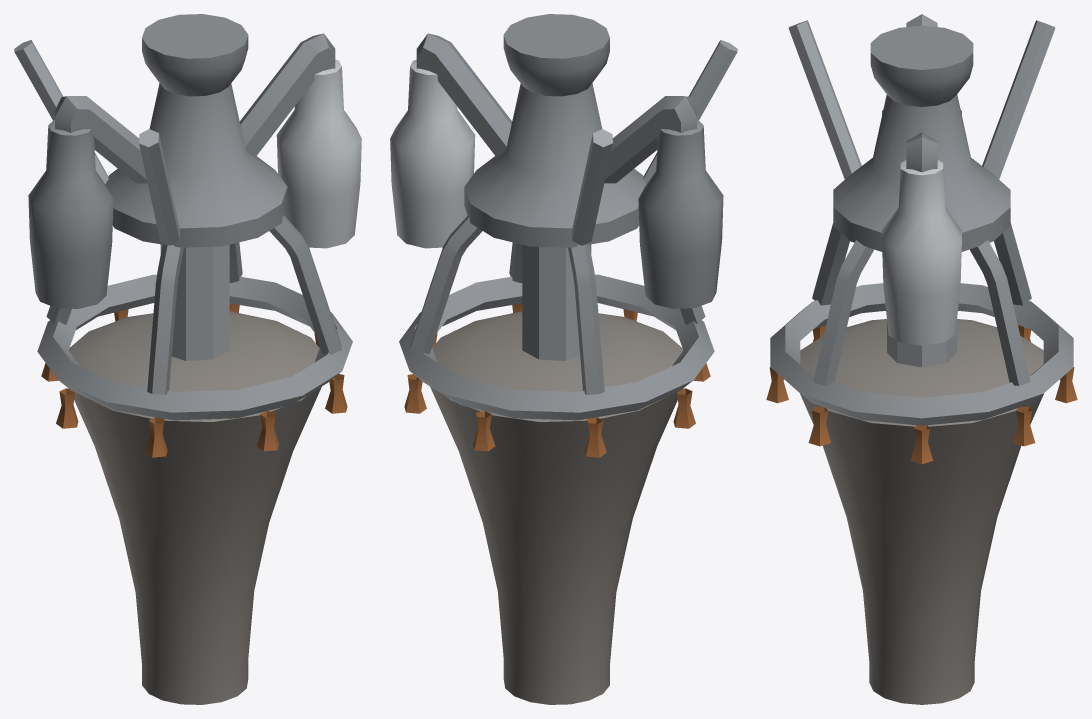
File: engine_s_lod_spike.glb
3 views of the same model, side by side, from view 1: azimuth 30°, elevation 25°; view 2: azimuth 150°, elevation 25°; view 3: azimuth 270°, elevation 25° (orthographic).
Visible parts, largest first — view 1: engine_lod; view 2: engine_lod; view 3: engine_lod.
Boxes of the visible parts, left/top/right/bottom form: engine_lod: left=14, top=14, right=361, bottom=704; engine_lod: left=390, top=14, right=737, bottom=704; engine_lod: left=766, top=14, right=1077, bottom=704.
Size of the model in its own units: 0.8615 by 1.65 by 0.7332.
